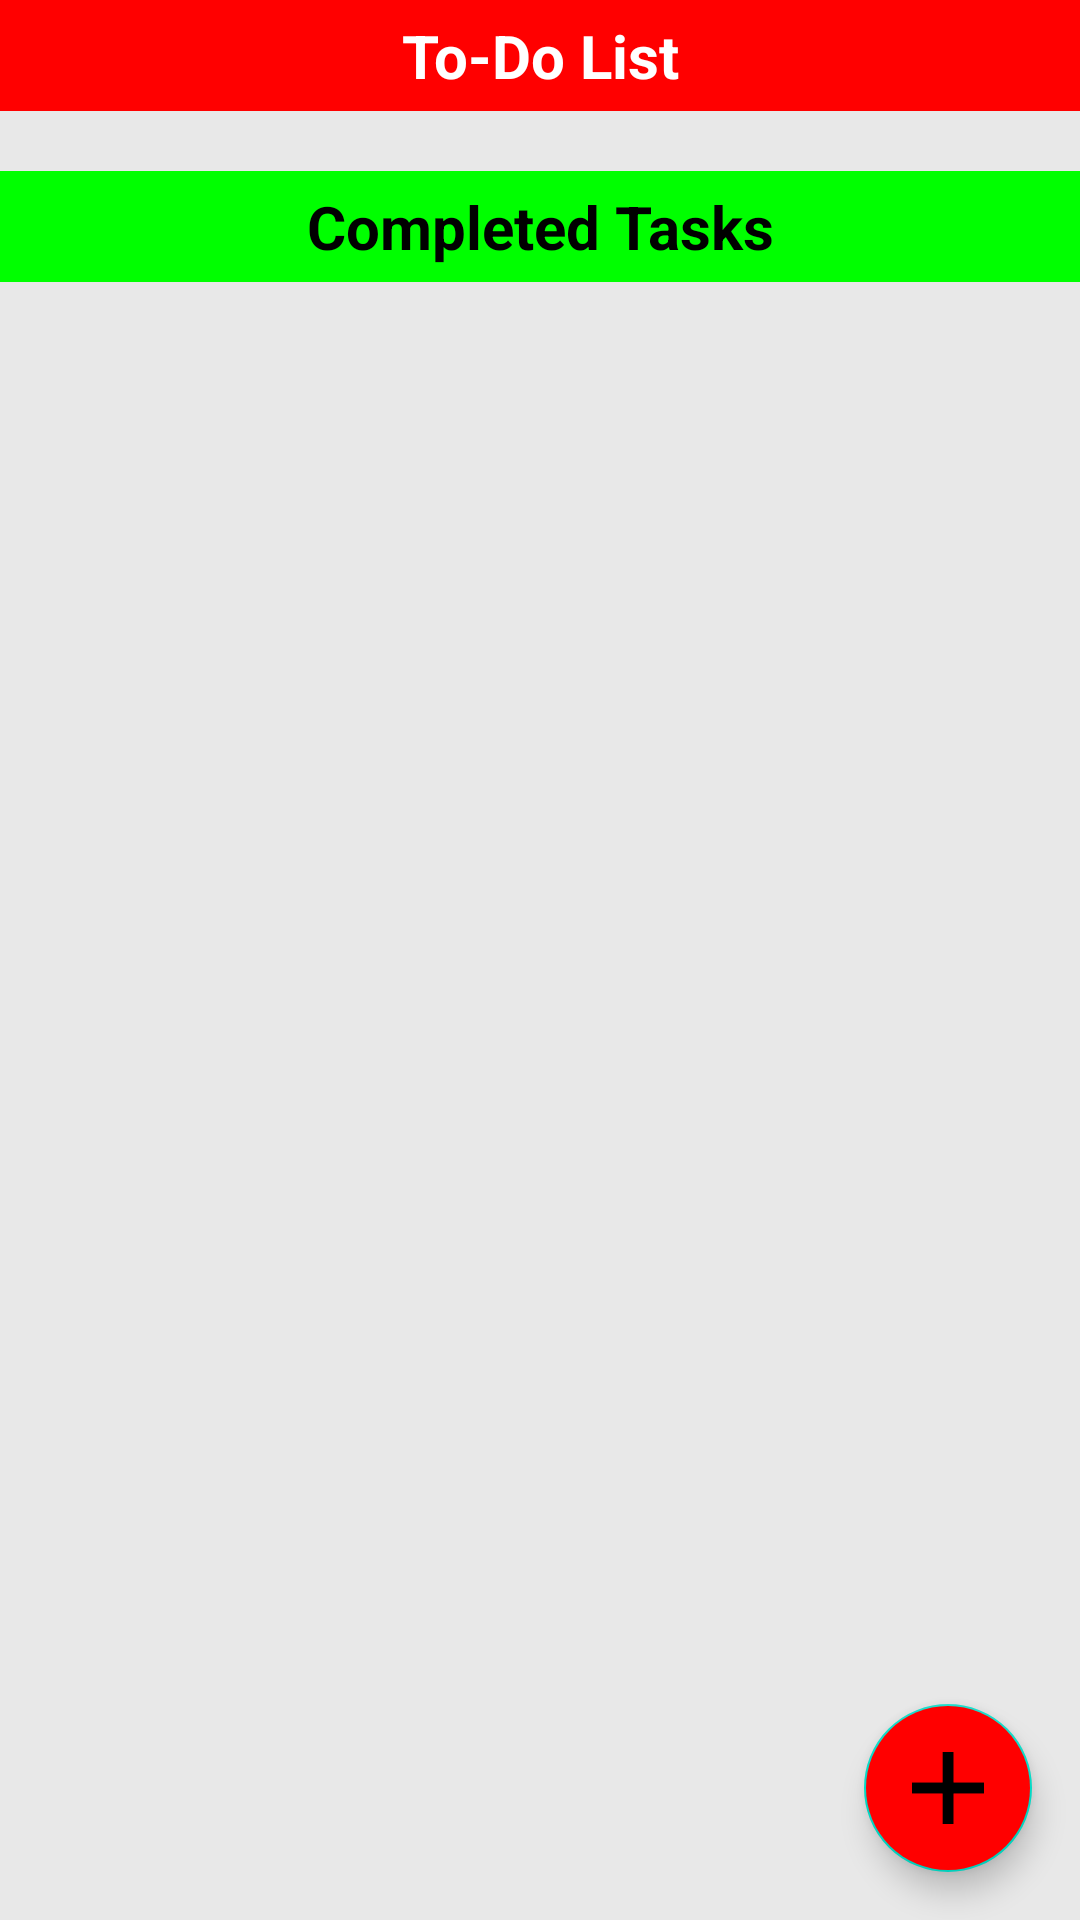

Icons on this 1080px×1920px Android screen, each with the point to tap as (x,y):
Add Task: (948,1788)
